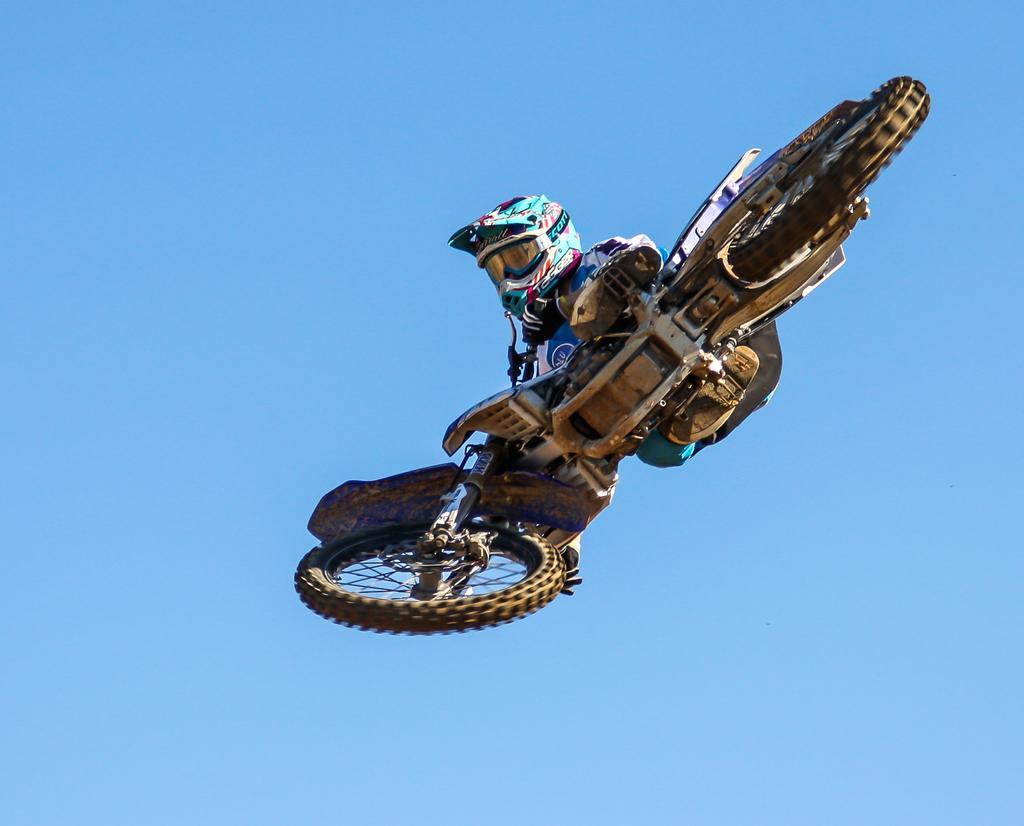helmet: (447, 194, 584, 321)
